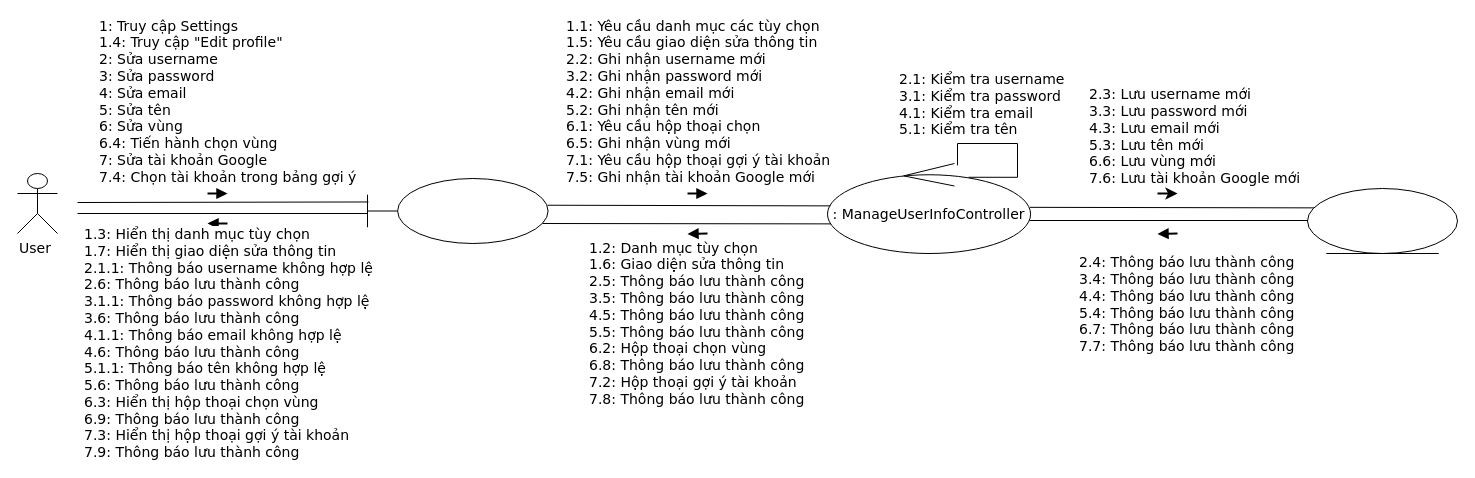
The diagram is 1475 pixels wide and 478 high, and some of its shapes have lost their labels. The shapes that lost their labels are listed below. From the top down, each one's box as (x1, y1, x2, y2) in pixels, then its label:
(366, 178, 548, 244): : ManageUserInfoUI
(1306, 188, 1458, 254): : ManageUserInfoDB
